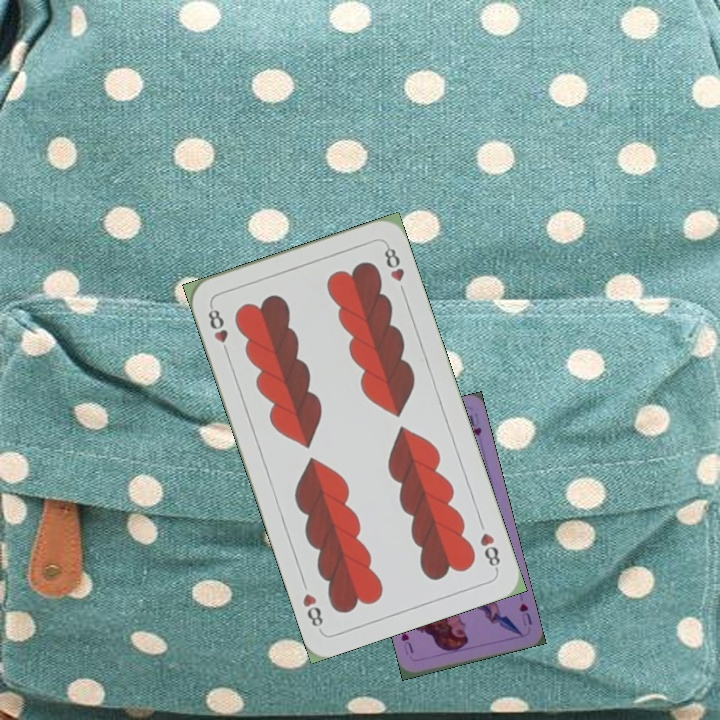H8: (204, 301, 232, 358), (476, 528, 503, 573)
HU: (515, 599, 535, 629)
